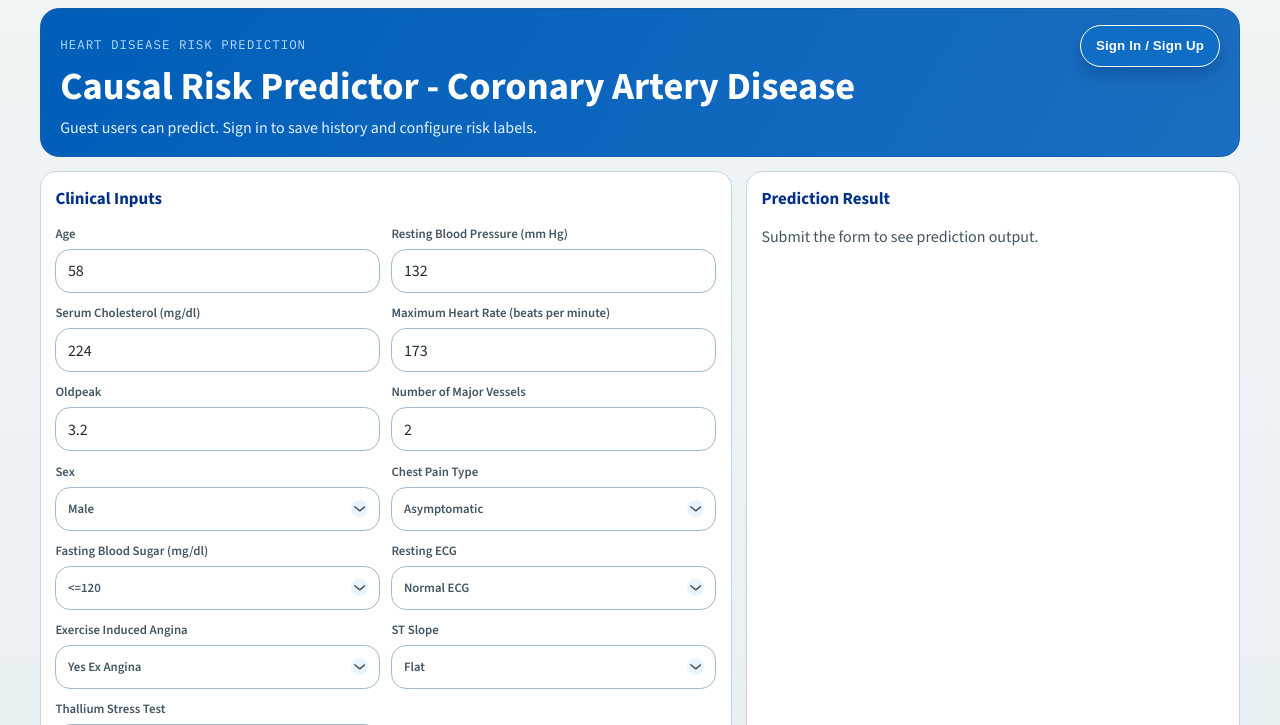
Test: form validation shows numeric-range error
The image size is (1280, 725).
Replace the text in the number field labelled "Age" with "0" at (218, 271), box x1=55 y1=249 x2=380 y2=293
(page scrolled)
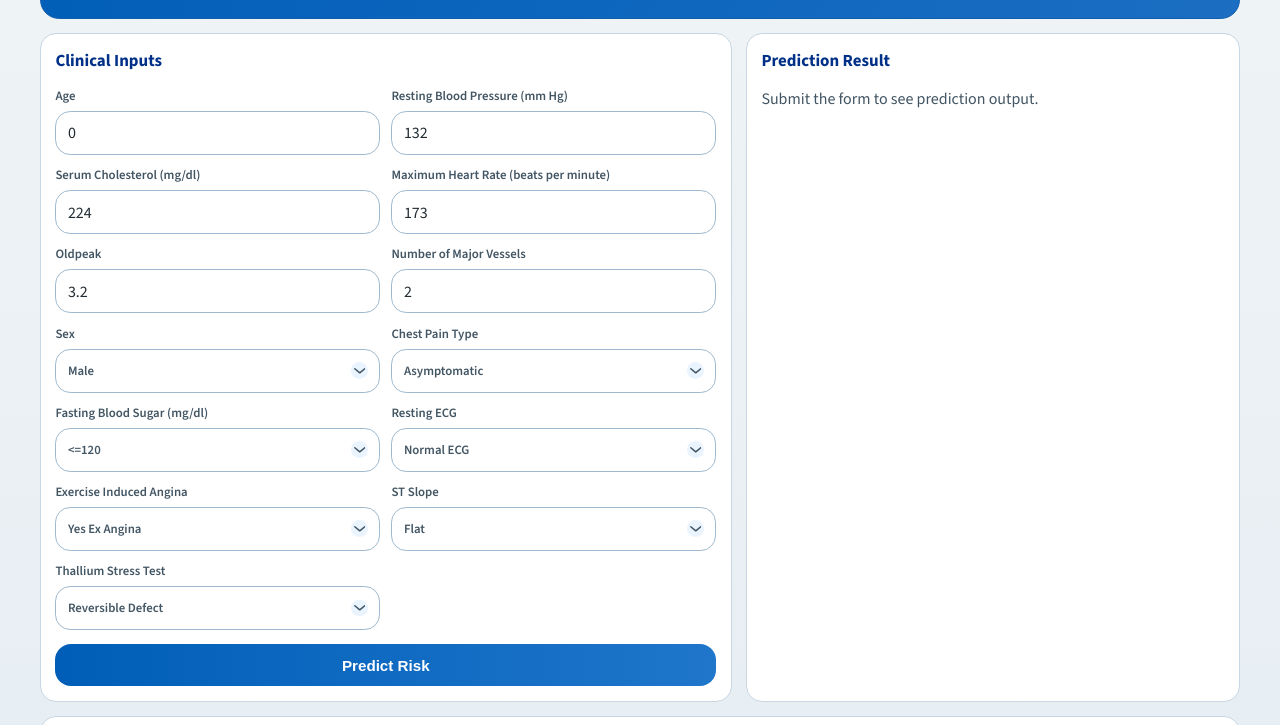
Submit the form named "Predict Risk", box x1=55 y1=87 x2=716 y2=686
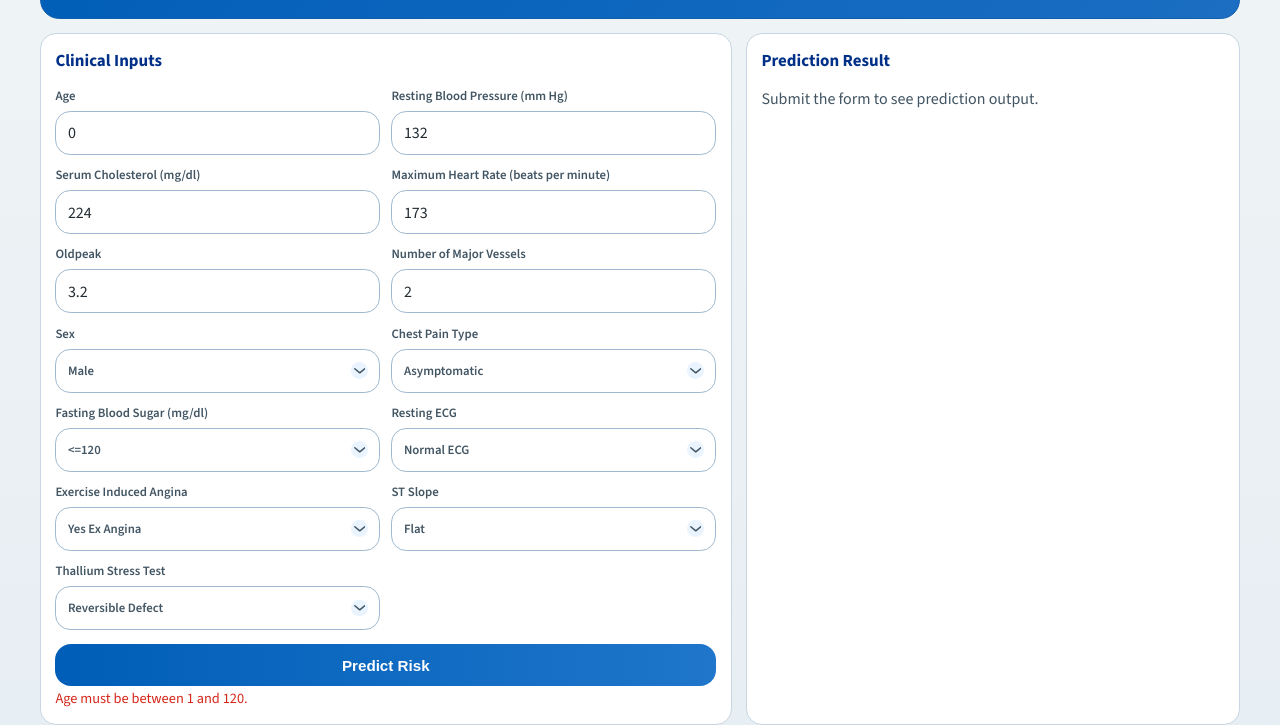
expect the text "Age must be between 1 and 120." is shown: met, box x1=55 y1=689 x2=248 y2=708
